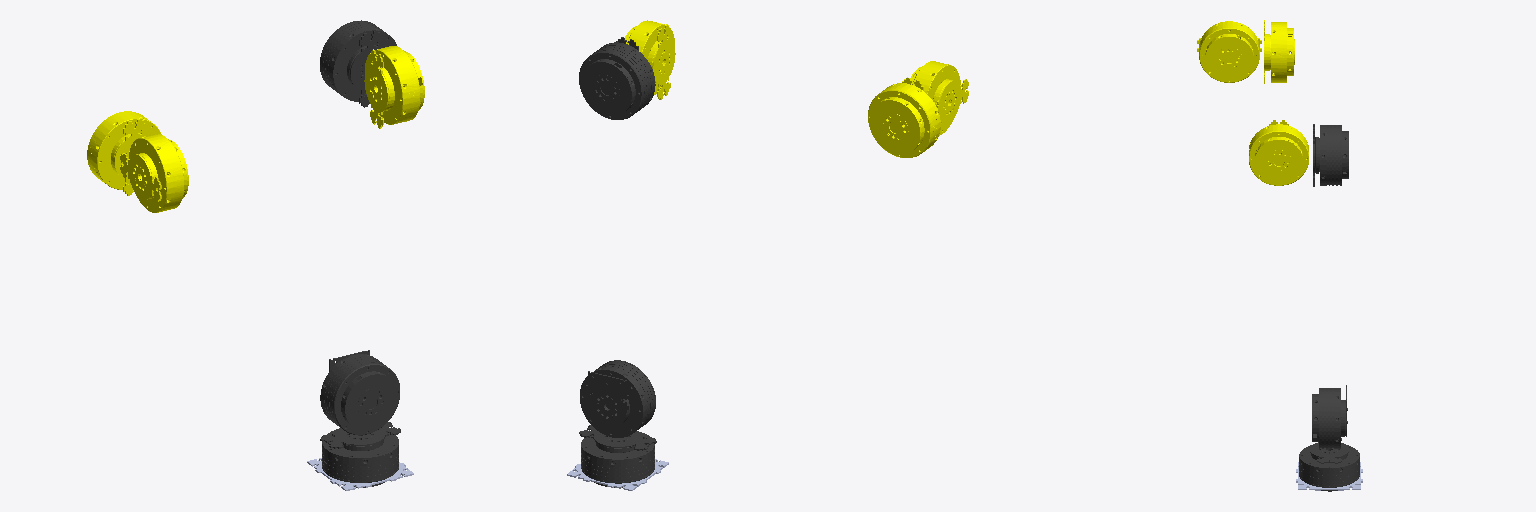
robot.urdf — 总装.SLDASM:
<?xml version="1.0" encoding="utf-8"?>
<!-- This URDF was automatically created by SolidWorks to URDF Exporter! Originally created by [author] ([email redacted]) 
     Commit Version: 1.6.0-1-g15f4949  Build Version: 1.6.7594.29634
     For more information, please see http://wiki.ros.org/sw_urdf_exporter -->
<robot
  name="总装.SLDASM">
  <link
    name="base_link">
    <inertial>
      <origin
        xyz="0.058507 -0.29935 -0.31485"
        rpy="0 0 0" />
      <mass
        value="0.0080158" />
      <inertia
        ixx="9.653E-06"
        ixy="-1.038E-23"
        ixz="-7.4106E-19"
        iyy="1.9301E-05"
        iyz="6.9312E-24"
        izz="9.653E-06" />
    </inertial>
    <visual>
      <origin
        xyz="0 0 0"
        rpy="0 0 0" />
      <geometry>
        <mesh
          filename="package://总装.SLDASM/meshes/base_link.STL" />
      </geometry>
      <material
        name="">
        <color
          rgba="0.79216 0.81961 0.93333 1" />
      </material>
    </visual>
    <collision>
      <origin
        xyz="0 0 0"
        rpy="0 0 0" />
      <geometry>
        <mesh
          filename="package://总装.SLDASM/meshes/base_link.STL" />
      </geometry>
    </collision>
  </link>
  <link
    name="link1">
    <inertial>
      <origin
        xyz="0.032984 -1.0041E-05 0.010424"
        rpy="0 0 0" />
      <mass
        value="0.32538" />
      <inertia
        ixx="0.00018153"
        ixy="-9.7293E-06"
        ixz="4.0127E-08"
        iyy="0.00019741"
        iyz="1.7813E-08"
        izz="0.00032826" />
    </inertial>
    <visual>
      <origin
        xyz="0 0 0"
        rpy="0 0 0" />
      <geometry>
        <mesh
          filename="package://总装.SLDASM/meshes/link1.STL" />
      </geometry>
      <material
        name="">
        <color
          rgba="0.29412 0.29412 0.29412 1" />
      </material>
    </visual>
    <collision>
      <origin
        xyz="0 0 0"
        rpy="0 0 0" />
      <geometry>
        <mesh
          filename="package://总装.SLDASM/meshes/link1.STL" />
      </geometry>
    </collision>
  </link>
  <joint
    name="joint1"
    type="continuous">
    <origin
      xyz="0.088416 0.32879 -0.26535"
      rpy="-3.1416 0 -2.7053" />
    <parent
      link="base_link" />
    <child
      link="link1" />
    <axis
      xyz="0 0 0" />
  </joint>
  <link
    name="link2">
    <inertial>
      <origin
        xyz="0.032868 0.00022865 0.014604"
        rpy="0 0 0" />
      <mass
        value="0.2712" />
      <inertia
        ixx="0.00016671"
        ixy="2.658E-07"
        ixz="4.0127E-08"
        iyy="0.00016582"
        iyz="1.7813E-08"
        izz="0.00028189" />
    </inertial>
    <visual>
      <origin
        xyz="0 0 0"
        rpy="0 0 0" />
      <geometry>
        <mesh
          filename="package://总装.SLDASM/meshes/link2.STL" />
      </geometry>
      <material
        name="">
        <color
          rgba="0.29412 0.29412 0.29412 1" />
      </material>
    </visual>
    <collision>
      <origin
        xyz="0 0 0"
        rpy="0 0 0" />
      <geometry>
        <mesh
          filename="package://总装.SLDASM/meshes/link2.STL" />
      </geometry>
    </collision>
  </link>
  <joint
    name="joint2"
    type="continuous">
    <origin
      xyz="0.053344 0.027141 -0.078446"
      rpy="-1.5708 -0.43633 -2.7053" />
    <parent
      link="link1" />
    <child
      link="link2" />
    <axis
      xyz="0 0 0" />
  </joint>
  <link
    name="link3">
    <inertial>
      <origin
        xyz="0.032981 -1.1589E-05 0.013651"
        rpy="0 0 0" />
      <mass
        value="0.2819" />
      <inertia
        ixx="0.00016852"
        ixy="-2.7771E-06"
        ixz="4.0127E-08"
        iyy="0.00017273"
        iyz="1.7813E-08"
        izz="0.00029061" />
    </inertial>
    <visual>
      <origin
        xyz="0 0 0"
        rpy="0 0 0" />
      <geometry>
        <mesh
          filename="package://总装.SLDASM/meshes/link3.STL" />
      </geometry>
      <material
        name="">
        <color
          rgba="0.29412 0.29412 0.29412 1" />
      </material>
    </visual>
    <collision>
      <origin
        xyz="0 0 0"
        rpy="0 0 0" />
      <geometry>
        <mesh
          filename="package://总装.SLDASM/meshes/link3.STL" />
      </geometry>
    </collision>
  </link>
  <joint
    name="joint3"
    type="continuous">
    <origin
      xyz="-0.13105 0.38481 0.0295"
      rpy="3.1416 0 2.4435" />
    <parent
      link="link2" />
    <child
      link="link3" />
    <axis
      xyz="0 0 0" />
  </joint>
  <link
    name="link4">
    <inertial>
      <origin
        xyz="0.49209 -0.0046427 0.15301"
        rpy="0 0 0" />
      <mass
        value="0.090661" />
      <inertia
        ixx="5.0218E-05"
        ixy="-3.5693E-06"
        ixz="4.9182E-09"
        iyy="4.9595E-05"
        iyz="-1.0572E-08"
        izz="9.5414E-05" />
    </inertial>
    <visual>
      <origin
        xyz="0 0 0"
        rpy="0 0 0" />
      <geometry>
        <mesh
          filename="package://总装.SLDASM/meshes/link4.STL" />
      </geometry>
      <material
        name="">
        <color
          rgba="1 1 0 1" />
      </material>
    </visual>
    <collision>
      <origin
        xyz="0 0 0"
        rpy="0 0 0" />
      <geometry>
        <mesh
          filename="package://总装.SLDASM/meshes/link4.STL" />
      </geometry>
    </collision>
  </link>
  <joint
    name="joint4"
    type="continuous">
    <origin
      xyz="0.28279 0.27987 -0.41563"
      rpy="-1.5708 -0.7854 -2.7053" />
    <parent
      link="link3" />
    <child
      link="link4" />
    <axis
      xyz="0 0 0" />
  </joint>
  <link
    name="link5">
    <inertial>
      <origin
        xyz="0.49209 -0.0046427 0.15301"
        rpy="0 0 0" />
      <mass
        value="0.090661" />
      <inertia
        ixx="5.0218E-05"
        ixy="-3.5693E-06"
        ixz="4.9127E-09"
        iyy="4.9595E-05"
        iyz="-1.0566E-08"
        izz="9.5414E-05" />
    </inertial>
    <visual>
      <origin
        xyz="0 0 0"
        rpy="0 0 0" />
      <geometry>
        <mesh
          filename="package://总装.SLDASM/meshes/link5.STL" />
      </geometry>
      <material
        name="">
        <color
          rgba="1 1 0 1" />
      </material>
    </visual>
    <collision>
      <origin
        xyz="0 0 0"
        rpy="0 0 0" />
      <geometry>
        <mesh
          filename="package://总装.SLDASM/meshes/link5.STL" />
      </geometry>
    </collision>
  </link>
  <joint
    name="joint5"
    type="continuous">
    <origin
      xyz="0.84031 0.13456 0.87568"
      rpy="1.5708 0.7854 -2.3562" />
    <parent
      link="link4" />
    <child
      link="link5" />
    <axis
      xyz="0 0 0" />
  </joint>
  <link
    name="link6">
    <inertial>
      <origin
        xyz="0.49209 -0.0046417 0.15301"
        rpy="0 0 0" />
      <mass
        value="0.090659" />
      <inertia
        ixx="5.3759E-05"
        ixy="-2.6828E-08"
        ixz="5.0363E-09"
        iyy="4.6053E-05"
        iyz="-1.1008E-08"
        izz="9.5413E-05" />
    </inertial>
    <visual>
      <origin
        xyz="0 0 0"
        rpy="0 0 0" />
      <geometry>
        <mesh
          filename="package://总装.SLDASM/meshes/link6.STL" />
      </geometry>
      <material
        name="">
        <color
          rgba="1 1 0 1" />
      </material>
    </visual>
    <collision>
      <origin
        xyz="0 0 0"
        rpy="0 0 0" />
      <geometry>
        <mesh
          filename="package://总装.SLDASM/meshes/link6.STL" />
      </geometry>
    </collision>
  </link>
  <joint
    name="joint6"
    type="continuous">
    <origin
      xyz="0.24881 -0.45717 0.21976"
      rpy="-1.5708 0 0.7854" />
    <parent
      link="link5" />
    <child
      link="link6" />
    <axis
      xyz="0 0 0" />
  </joint>
</robot>

--- What the picture shows (computed from the rendered views, not written in the file) ---
The picture shows the robot from 3 angles, left to right: view 1: azimuth 30°, elevation 25°; view 2: azimuth 150°, elevation 25°; view 3: azimuth 270°, elevation 25°; orthographic projection.
Robot: 总装.SLDASM — 7 links, 6 joints (6 continuous); root link base_link; default pose: all joints at 0.
Visible links, largest first — view 1: link2, link6, link4, link1, link3, link5, base_link; view 2: link3, link2, link5, link1, link6, link4, base_link; view 3: link6, link4, link1, link3, link2, link5.
Link boxes in pixels (x1,y1,x2,y2): link2: (320,350,399,434); link6: (120,134,188,212); link4: (364,46,424,128); link1: (320,422,400,487); link3: (320,20,396,107); link5: (87,111,161,195); base_link: (307,458,413,490); link3: (579,37,655,119); link2: (580,360,655,437); link5: (868,77,940,157); link1: (579,425,656,487); link6: (910,61,968,135); link4: (625,20,675,99); base_link: (567,459,668,490); link6: (1197,21,1261,82); link4: (1249,120,1308,185); link1: (1299,438,1359,491); link3: (1313,124,1348,186); link2: (1312,385,1347,448); link5: (1264,20,1294,83).
Size in the robot's own frame: 0.4744 by 0.2549 by 0.6055 metres.
Meshes: 7 distinct files referenced, 7 mesh visuals loaded (7 binary STL).
